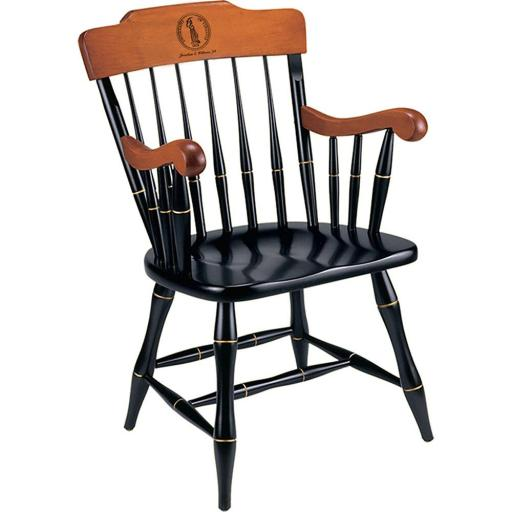chair: (65, 0, 456, 509)
